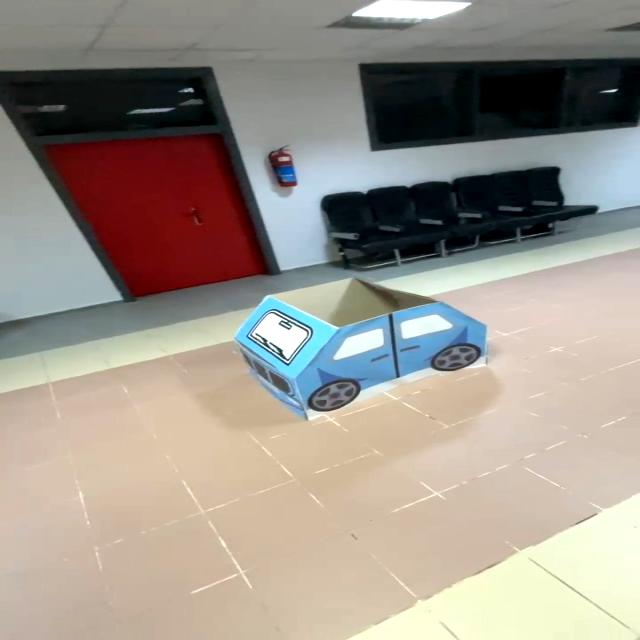blue_car: (206, 270, 548, 431)
